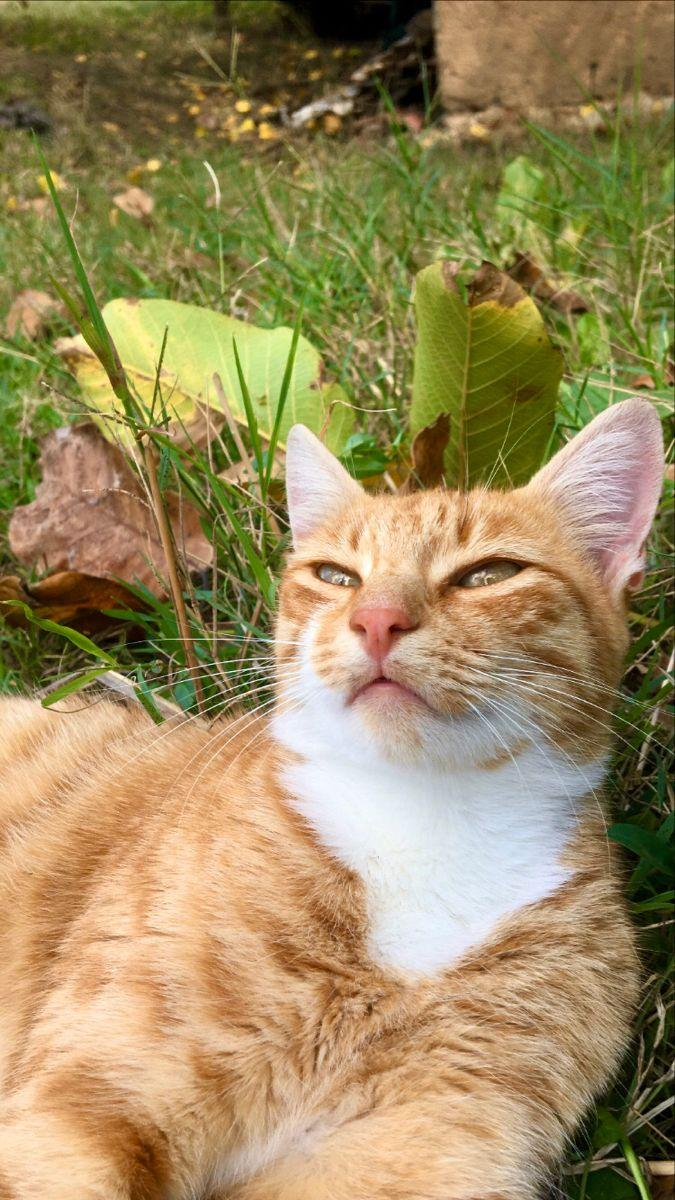kedo: (3, 385, 675, 1196)
